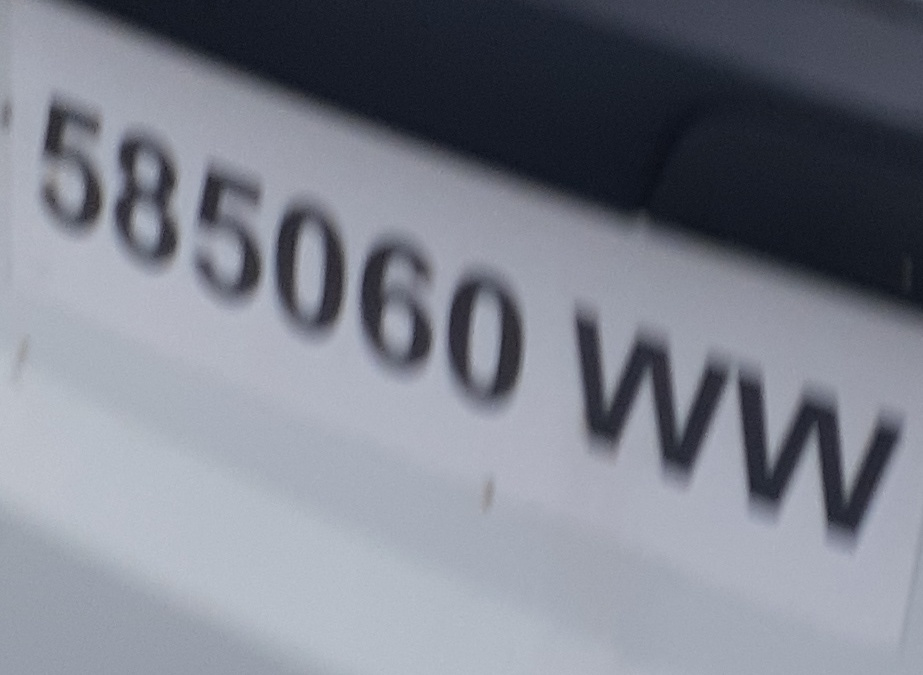0: (440, 267, 526, 424), (272, 193, 349, 348)
5: (33, 92, 109, 242), (189, 163, 263, 313)
6: (356, 234, 436, 387)
8: (111, 127, 183, 278)
w: (735, 368, 909, 558), (567, 304, 733, 490)
